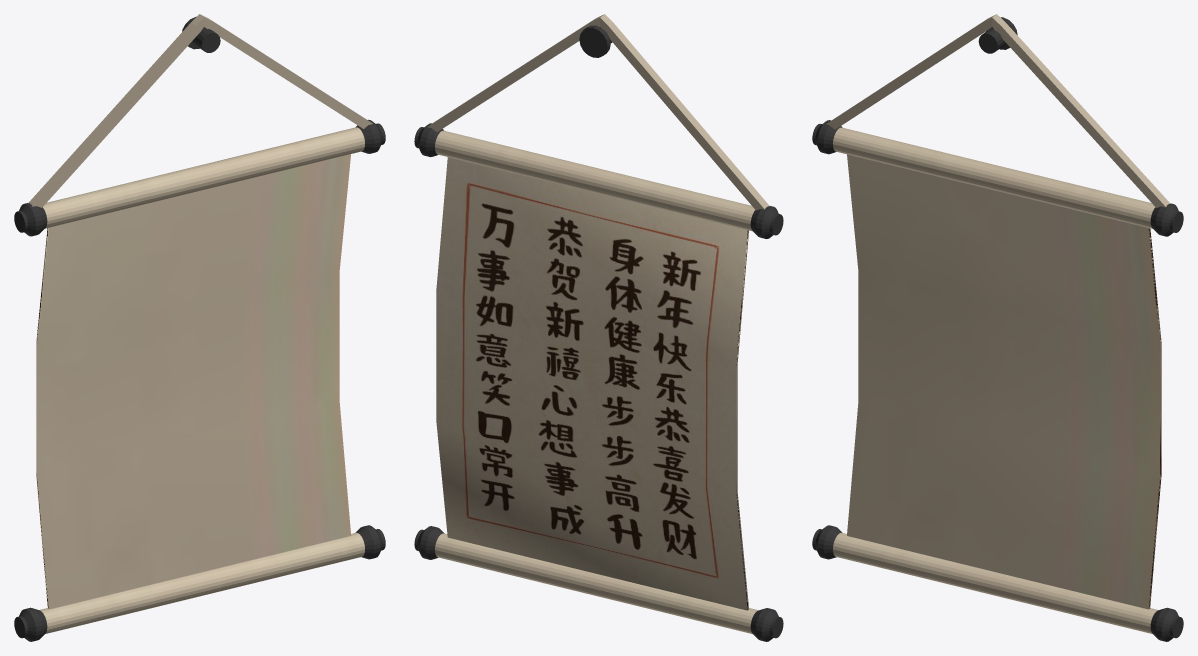
The model's file is Scroll.fbx.
The picture shows the model from 3 angles, left to right: view 1: azimuth 30°, elevation 25°; view 2: azimuth 150°, elevation 25°; view 3: azimuth 330°, elevation 25°; orthographic projection.
Visible parts, largest first — view 1: Cube.001, Cylinder.002, Cylinder, Cube, Cylinder.003; view 2: Cube.001, Cylinder.002, Cylinder, Cube, Cylinder.003; view 3: Cube.001, Cylinder.002, Cylinder, Cube, Cylinder.003.
Part boxes in pixels (x1,y1,x2,y2): Cube.001: [36, 154, 350, 609]; Cylinder.002: [14, 119, 385, 236]; Cylinder: [14, 525, 385, 641]; Cube: [28, 14, 372, 207]; Cylinder.003: [182, 16, 220, 52]; Cube.001: [436, 157, 748, 610]; Cylinder.002: [414, 123, 783, 238]; Cylinder: [414, 526, 783, 641]; Cube: [427, 14, 769, 210]; Cylinder.003: [579, 25, 612, 57]; Cube.001: [847, 154, 1161, 609]; Cylinder.002: [812, 120, 1183, 236]; Cylinder: [812, 525, 1183, 641]; Cube: [826, 14, 1170, 207]; Cylinder.003: [978, 17, 1017, 53].
Bounding box in the file's own units: 138 × 214 × 15.52.
Materials: 3 (1 with a texture image).
